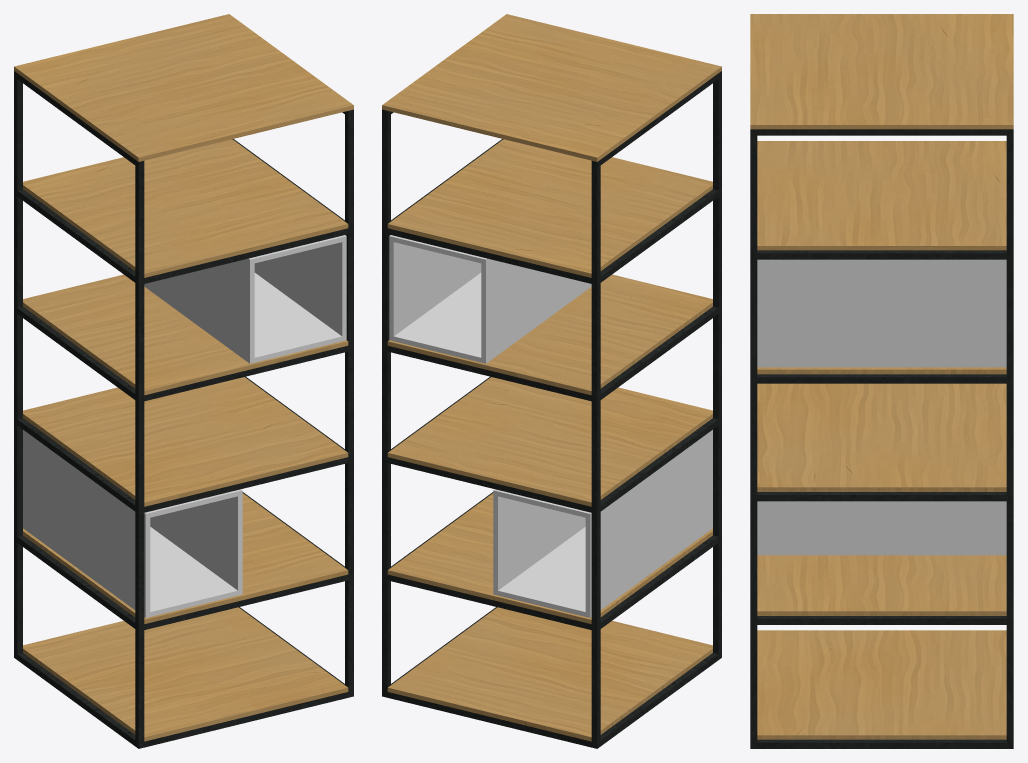
The model's file is cabinet_1_1.glb.
3 views of the same model, side by side, from view 1: azimuth 30°, elevation 25°; view 2: azimuth 150°, elevation 25°; view 3: azimuth 270°, elevation 25° (orthographic). The views are drawn at different scales.
Visible parts, largest first — view 1: cabinet_1_1; view 2: cabinet_1_1; view 3: cabinet_1_1.
Boxes of the visible parts, bbox=[...] form: cabinet_1_1: bbox=[14, 14, 353, 748]; cabinet_1_1: bbox=[382, 14, 721, 748]; cabinet_1_1: bbox=[750, 14, 1013, 748].
Size of what is drawn, in the model's own units: 1 by 2.63 by 1.
3 materials, 3 textured.
